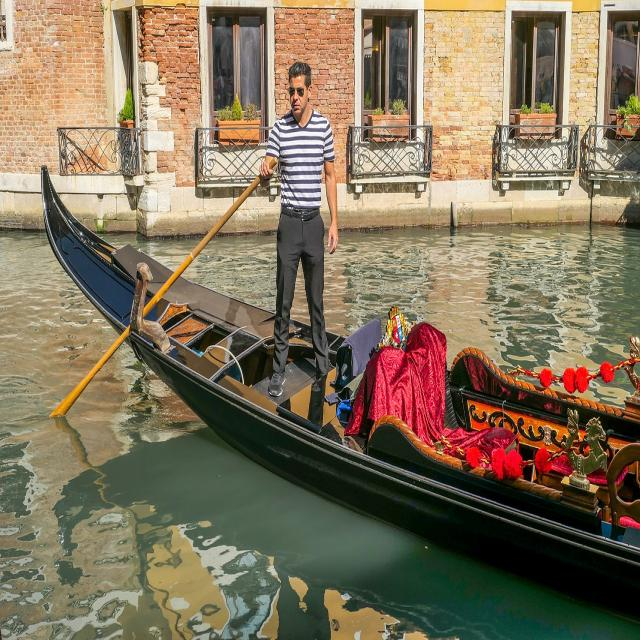boat: (33, 125, 640, 617)
